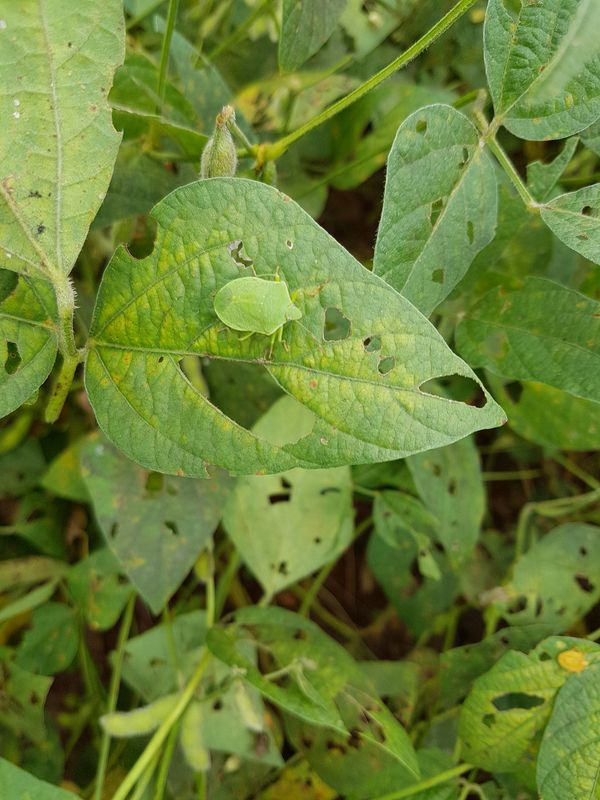Euschistus_heros_ninfa: (551, 642, 594, 680)
Nezara_viridula_adulto: (200, 255, 311, 358)
